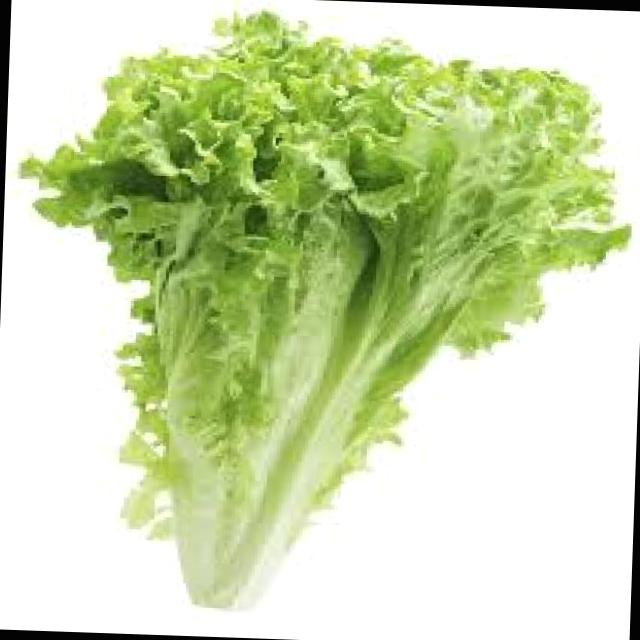Lettuce-Ready-to-Harvest: (25, 13, 625, 605)
